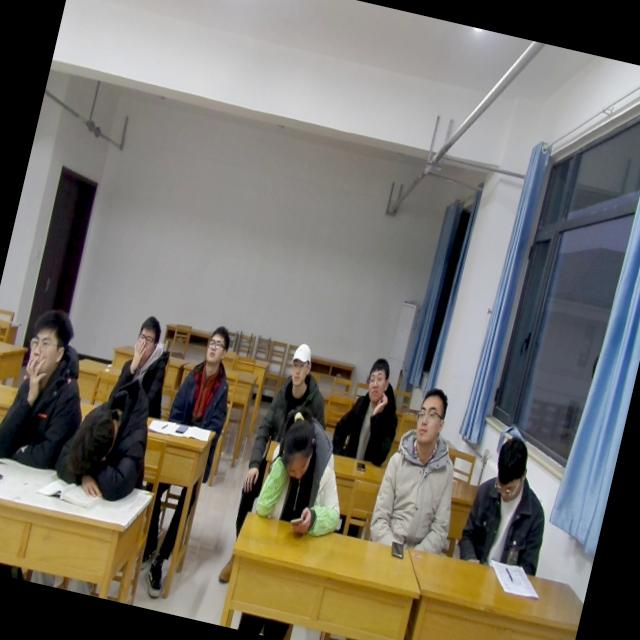bow: (49, 361, 170, 506), (248, 397, 364, 547)
down: (482, 432, 536, 514), (271, 408, 323, 490)
lookup: (18, 300, 78, 384), (406, 380, 454, 450), (126, 308, 166, 370), (358, 349, 394, 414), (279, 336, 316, 396), (198, 315, 235, 368)
sit: (362, 375, 480, 563), (0, 295, 106, 481), (453, 424, 568, 584), (328, 348, 414, 472), (166, 312, 248, 434), (257, 332, 340, 450), (104, 310, 184, 421)
